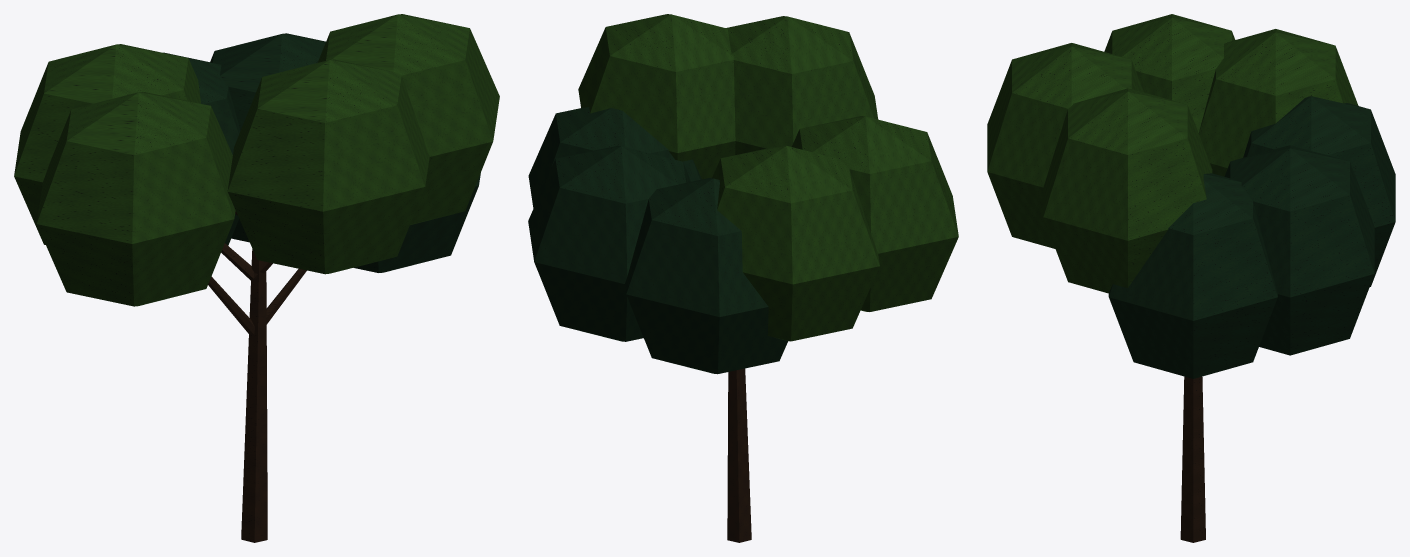
Rendered from PROP-7292C5DF1176_lod2.glb.
3 views of the same model, side by side, from view 1: azimuth 30°, elevation 25°; view 2: azimuth 150°, elevation 25°; view 3: azimuth 270°, elevation 25° (orthographic). The views are drawn at different scales.
Visible parts, largest first — view 1: leaf_crown.021, leaf_crown.020, trunk.032, branch.014; view 2: leaf_crown.021, leaf_crown.020, trunk.032; view 3: leaf_crown.021, leaf_crown.020, trunk.032.
Boxes of the visible parts, x1,y1,x2,y2 form: leaf_crown.021: [14, 14, 499, 306]; leaf_crown.020: [163, 33, 480, 272]; trunk.032: [241, 249, 267, 542]; branch.014: [208, 211, 306, 334]; leaf_crown.021: [578, 14, 958, 341]; leaf_crown.020: [528, 107, 787, 374]; trunk.032: [727, 368, 751, 542]; leaf_crown.021: [987, 14, 1358, 293]; leaf_crown.020: [1108, 96, 1395, 378]; trunk.032: [1180, 376, 1205, 542].
Size of the model in its own units: 8.35 by 9.03 by 6.75.
3 materials, 3 textured.
